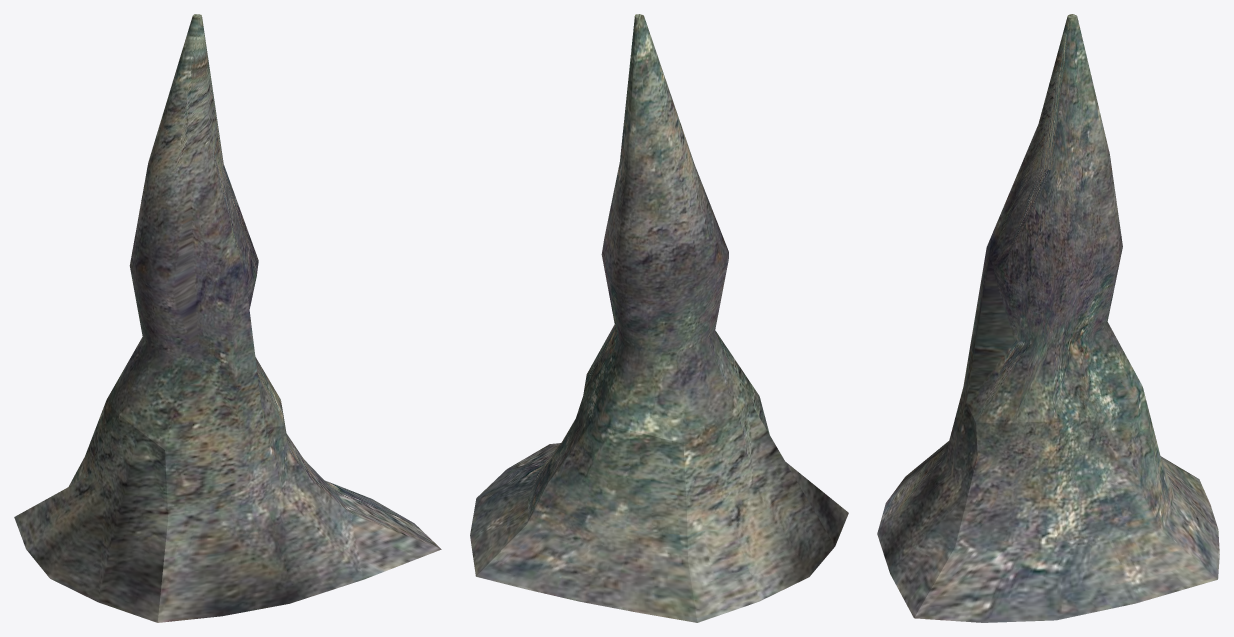
The model's file is ruin-column.glb.
3 renders of one model, left to right at view 1: azimuth 30°, elevation 25°; view 2: azimuth 150°, elevation 25°; view 3: azimuth 270°, elevation 25°, orthographic. The views are drawn at different scales.
Parts seen in each view (by area): view 1: ruin-column; view 2: ruin-column; view 3: ruin-column.
Part boxes in pixels (<box>): ruin-column: <box>14,14,441,622</box>; ruin-column: <box>470,14,848,622</box>; ruin-column: <box>877,14,1219,622</box>.
Size of the model in its own units: 4.02 by 6.03 by 3.59.
Materials: 1 (1 with a texture image).
